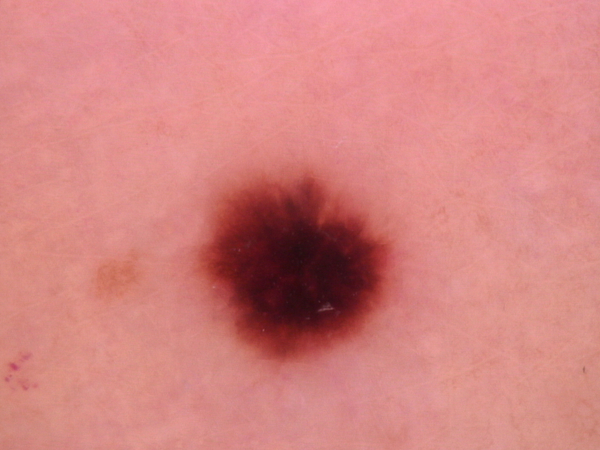Detected Lesion: (183, 165, 404, 383)
